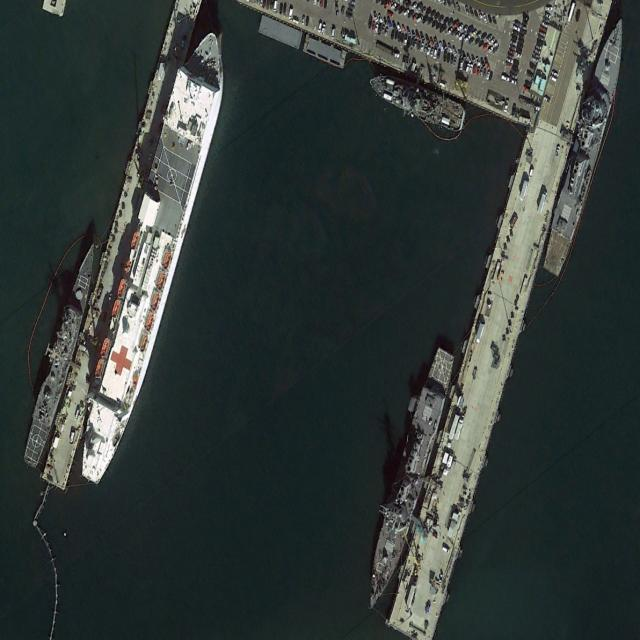Auxiliary Ships: (69, 19, 235, 494)
Destroyer: (355, 337, 458, 618), (540, 8, 634, 281)
Frigate: (16, 235, 104, 472)
Other Ship: (366, 63, 469, 137)
